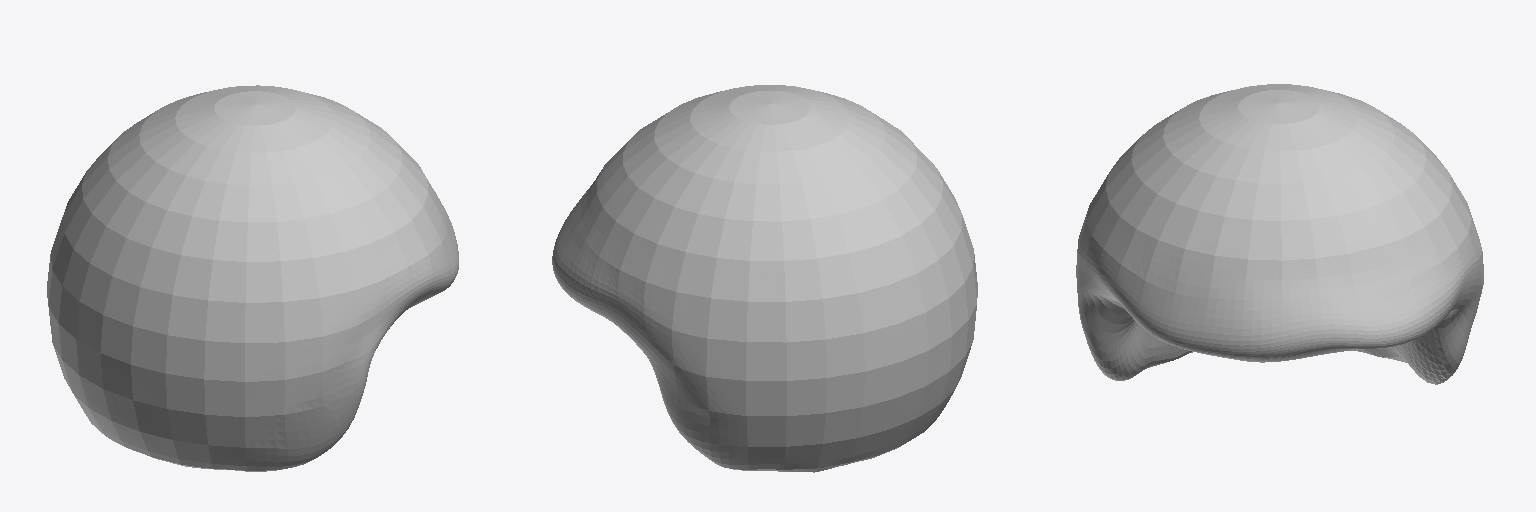
Rendered from Helmet.obj.
3 views of the same model, side by side, from view 1: azimuth 30°, elevation 25°; view 2: azimuth 150°, elevation 25°; view 3: azimuth 270°, elevation 25° (orthographic).
Parts seen in each view (by area): view 1: Helmet_Sphere.001; view 2: Helmet_Sphere.001; view 3: Helmet_Sphere.001.
Part boxes in pixels (bbox=[...]): Helmet_Sphere.001: bbox=[47, 85, 458, 471]; Helmet_Sphere.001: bbox=[552, 85, 977, 472]; Helmet_Sphere.001: bbox=[1076, 84, 1483, 384].
Bounding box in the file's own units: 1.62 × 1.29 × 1.57.